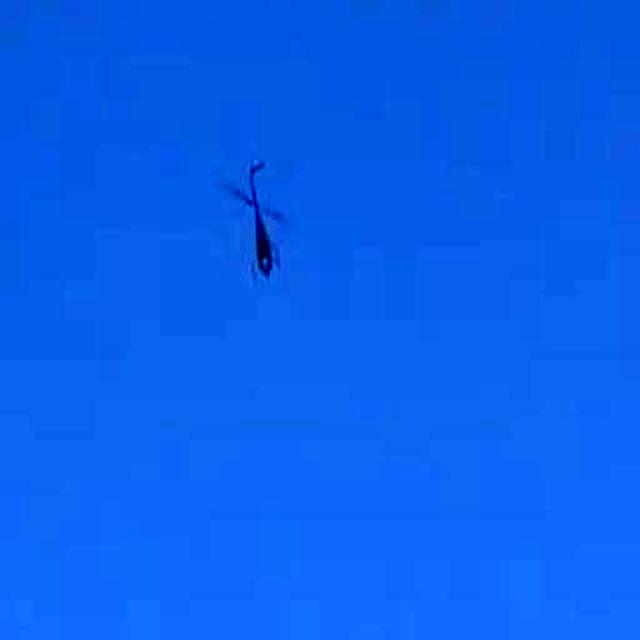drone: (198, 134, 331, 304)
